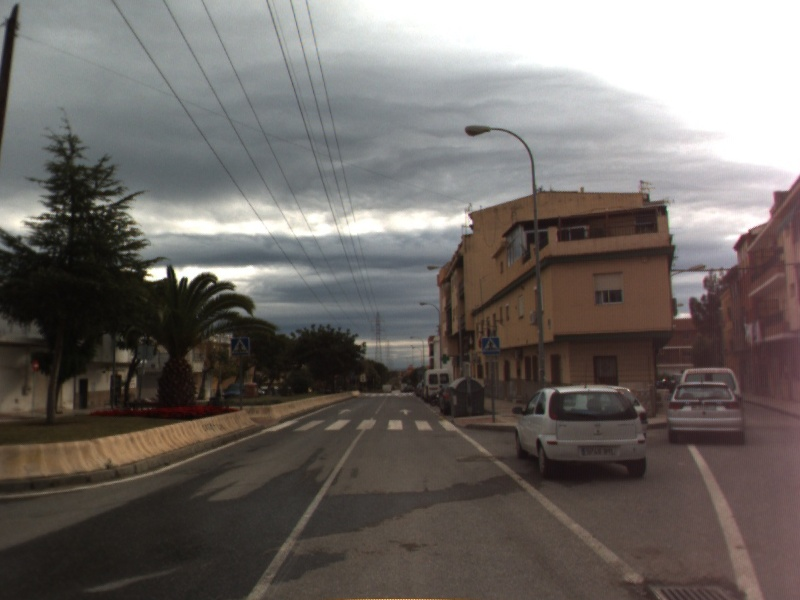STRAIGHT: (335, 406, 354, 417), (397, 406, 414, 417)
